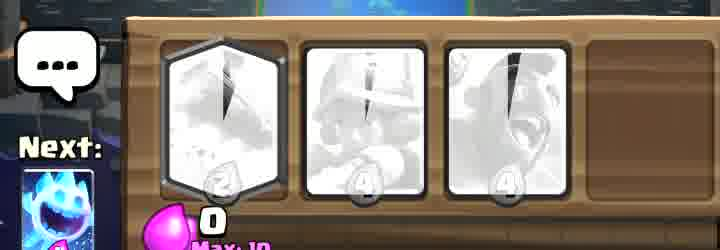ice-spirit: (23, 169, 95, 250)
